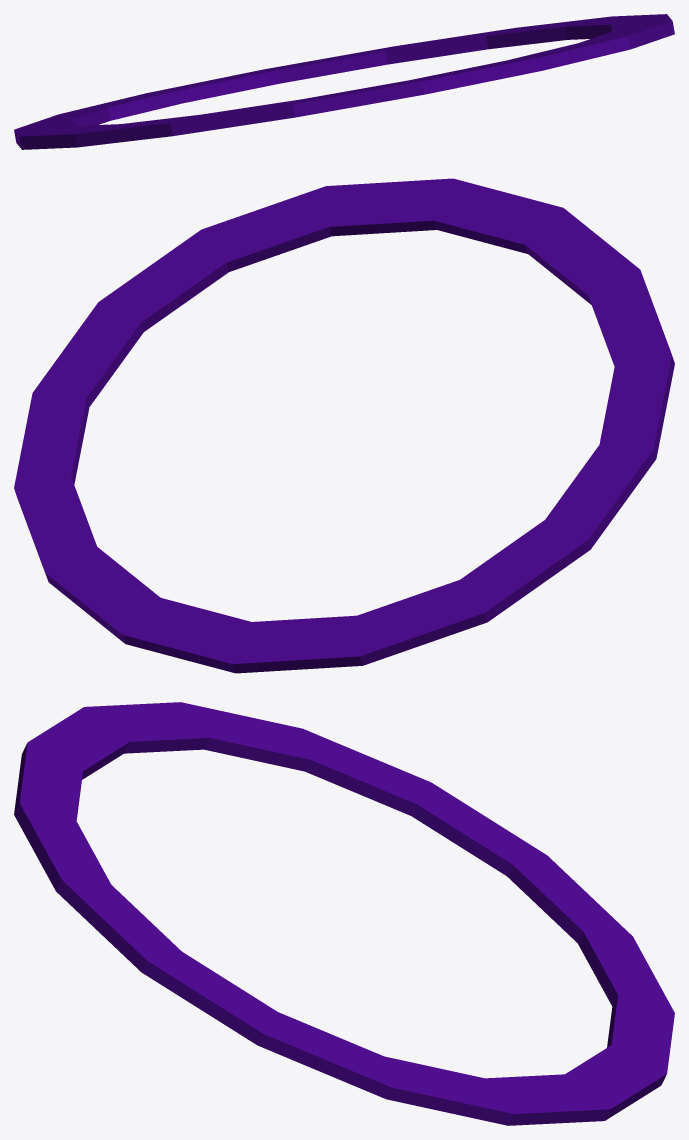
File: KeminthRing.obj
The picture shows the model from 3 angles, top to bottom: view 1: azimuth 30°, elevation 25°; view 2: azimuth 150°, elevation 25°; view 3: azimuth 270°, elevation 25°; orthographic projection. The views are drawn at different scales.
Visible parts, largest first — view 1: Circle_Circle.002; view 2: Circle_Circle.002; view 3: Circle_Circle.002.
Boxes of the visible parts, x1,y1,x2,y2 form: Circle_Circle.002: (14,14,674,149); Circle_Circle.002: (14,178,674,673); Circle_Circle.002: (14,702,674,1125).
Size of the model in its own units: 138 by 57.43 by 127.
